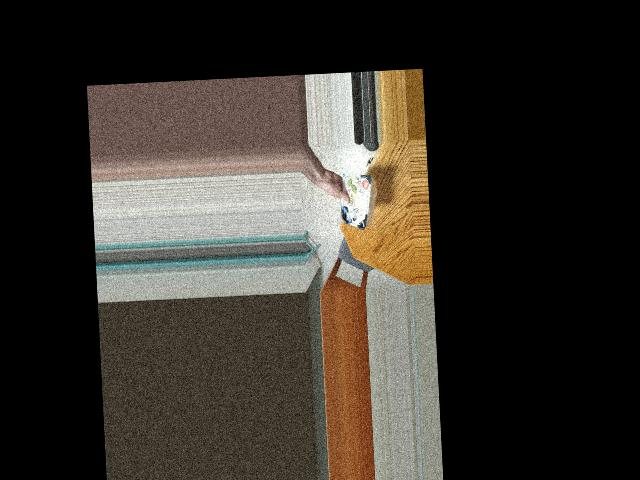cheese: (333, 174, 375, 227)
